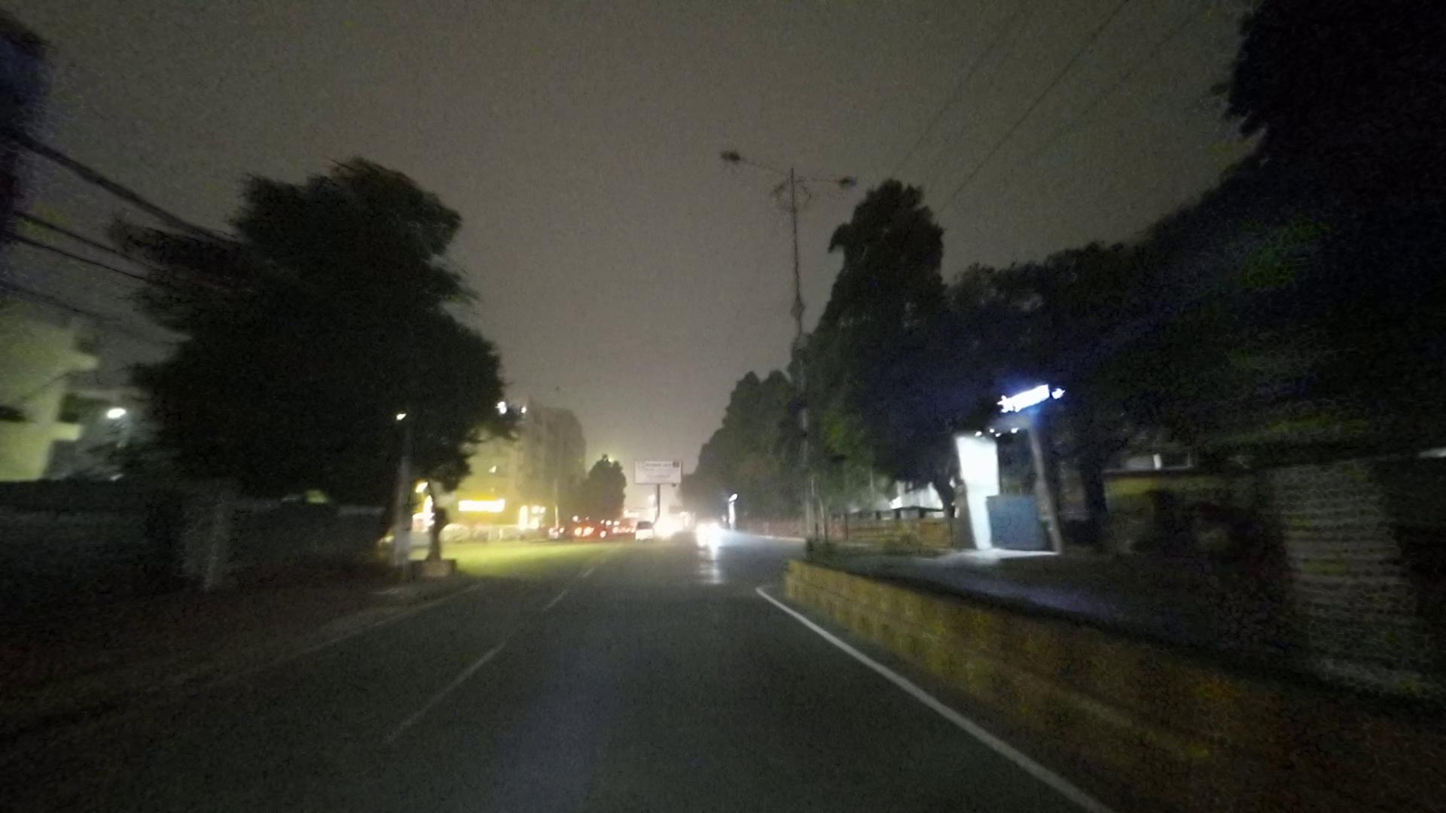streetlight: (717, 144, 786, 177), (803, 167, 861, 191)
